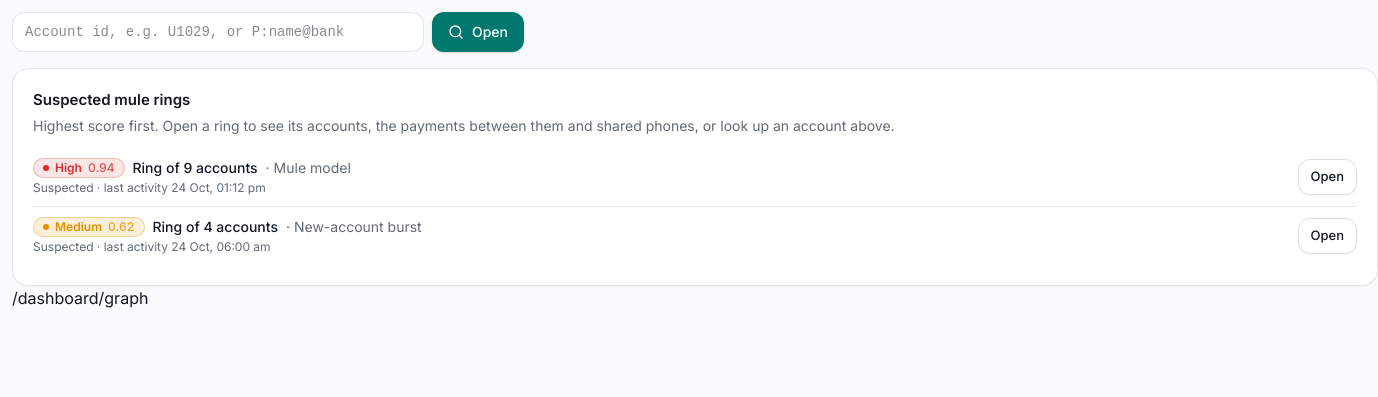
Test: Graph Explorer (spec 06 §3, T5.3) › checks the id and says when there is no graph data
Type "not an id!" into the field named "Account or graph id" at x=218, y=32, box [12,12,424,52]
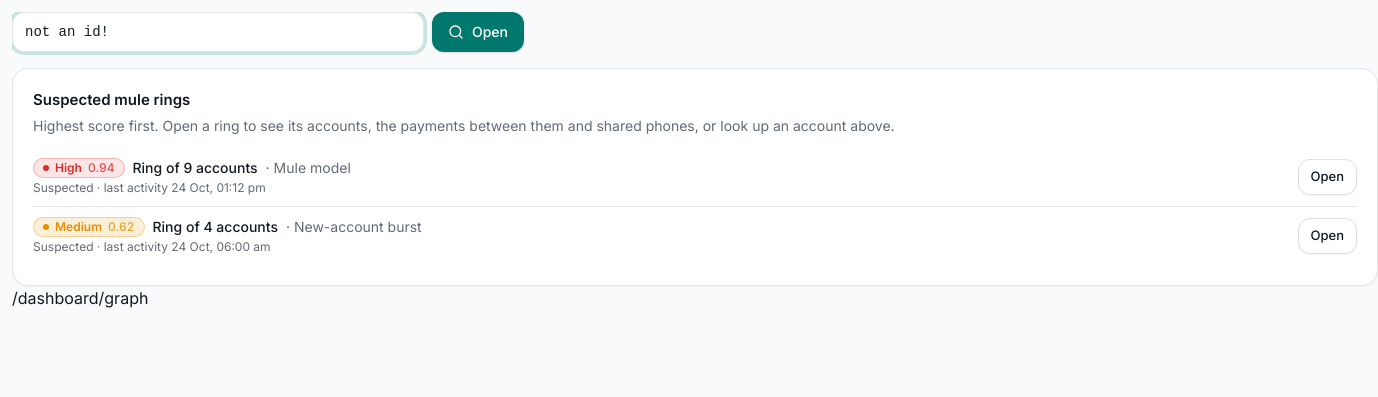
Click the 1st button "Open" at x=478, y=32, box [432,12,524,52]
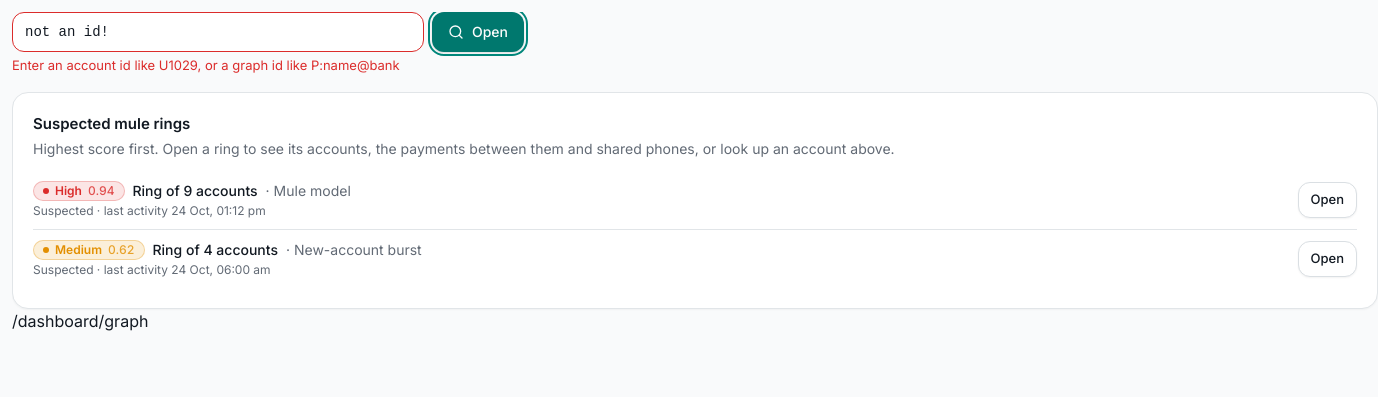
expect the text "Enter an account id like U1029, or a graph id like P:name@bank" is shown: met, box [12,56,424,76]
Replace the text in the field named "Account or graph id" with "U9999" at x=218, y=32, box [12,12,424,52]
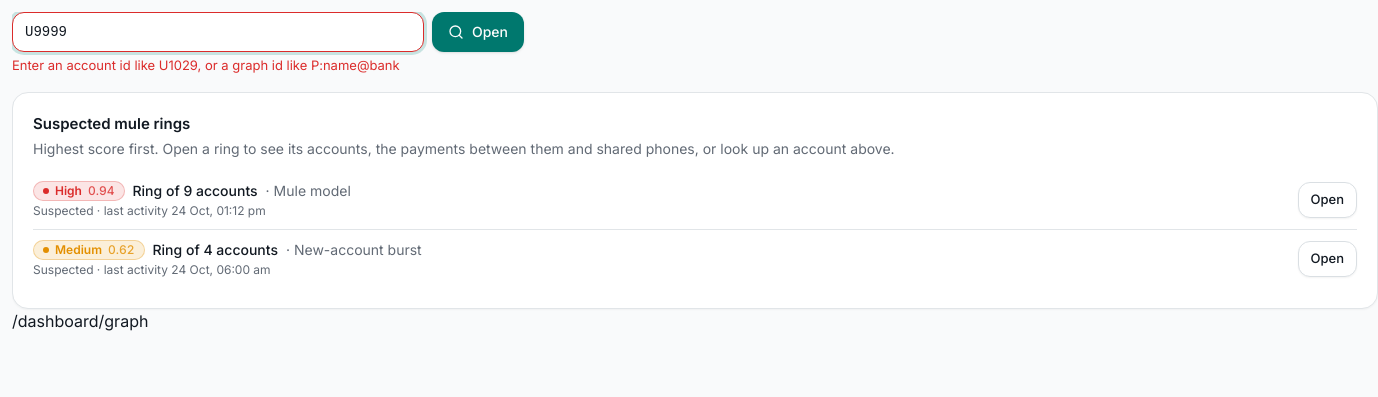
Click the 1st button "Open" at x=478, y=32, box [432,12,524,52]
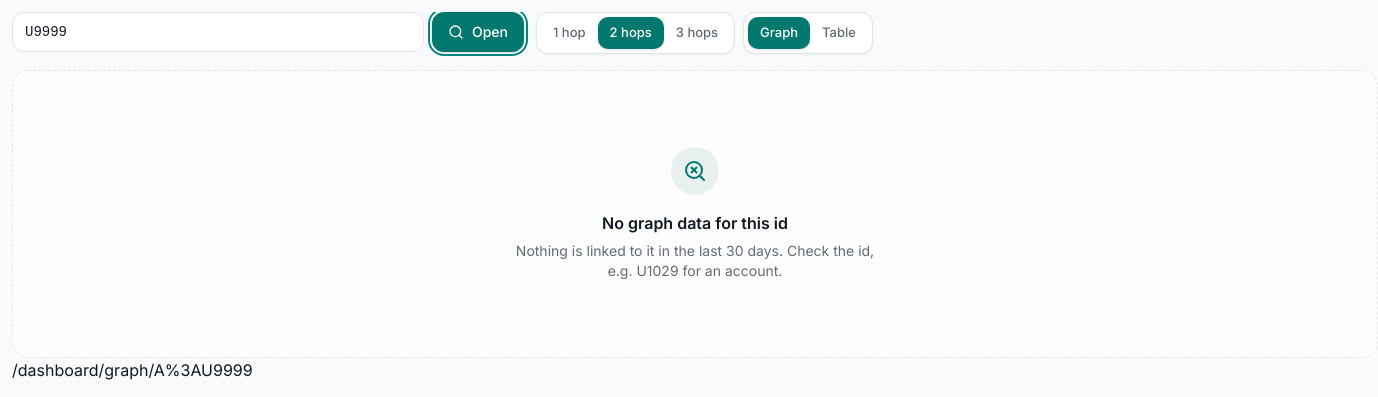
expect the heading "No graph data for this id" is shown: met, box [602,211,788,235]
